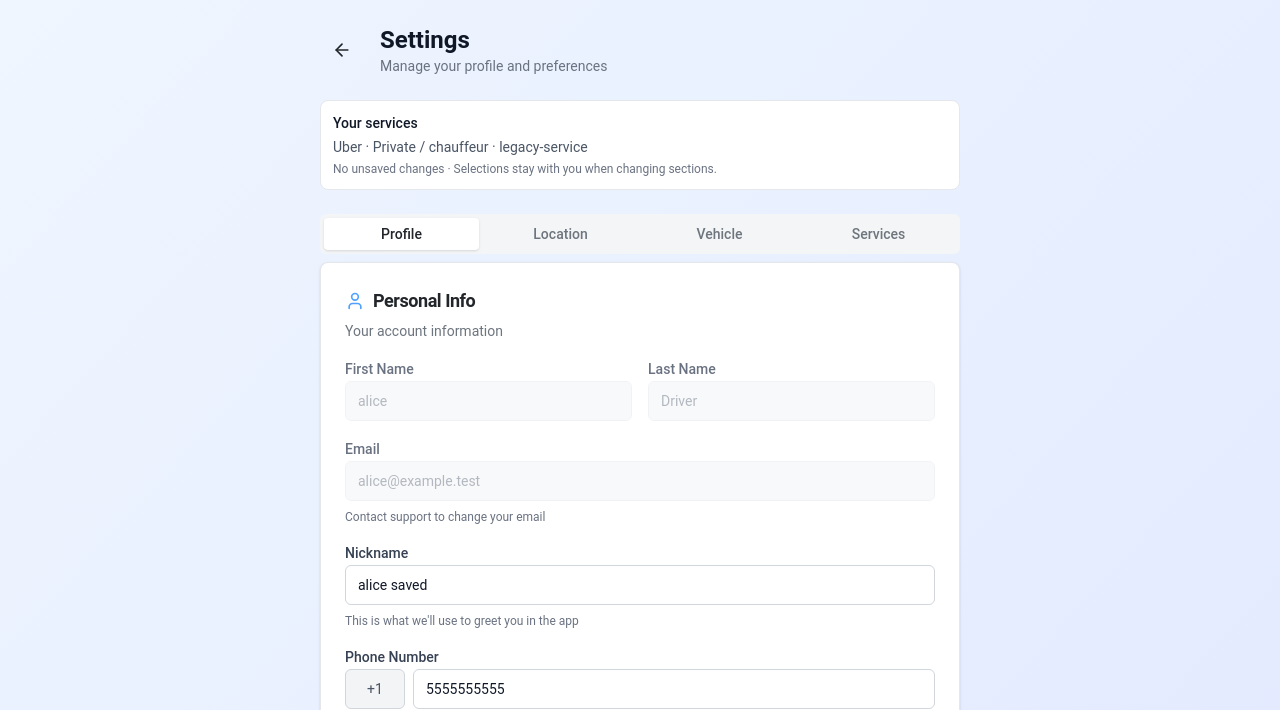
validation reveals and focuses an invalid field in a hidden section
Press the mouse on the tab "Location": (560, 234) [483, 218, 638, 250]
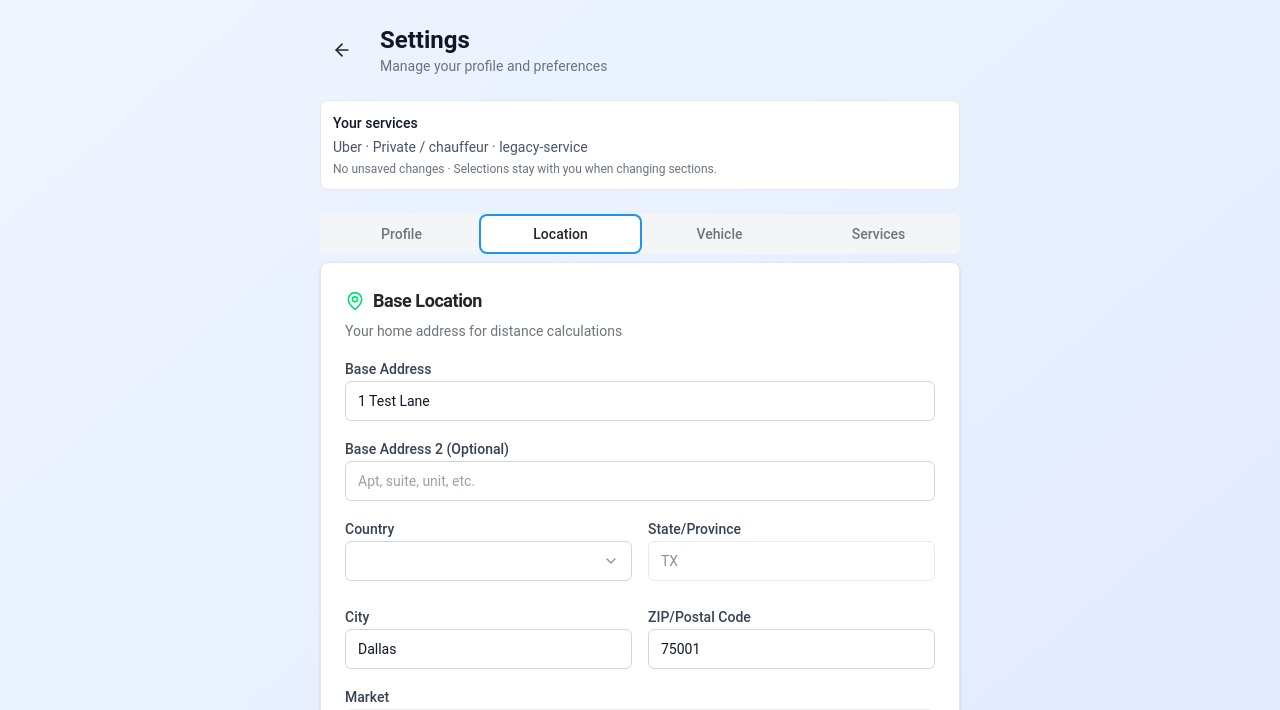
Clear the field labelled "Base Address": (640, 401) [345, 381, 935, 421]
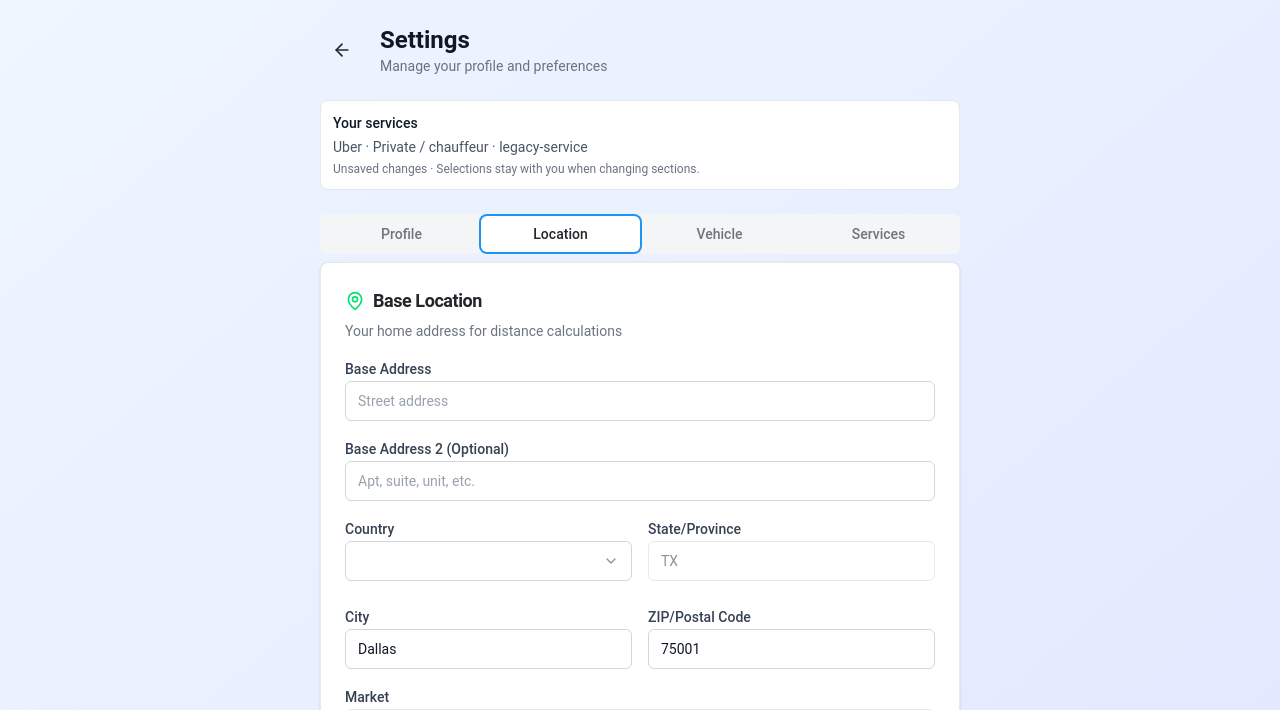
Press the mouse on the tab "Services": (878, 234) [801, 218, 956, 250]
(page scrolled)
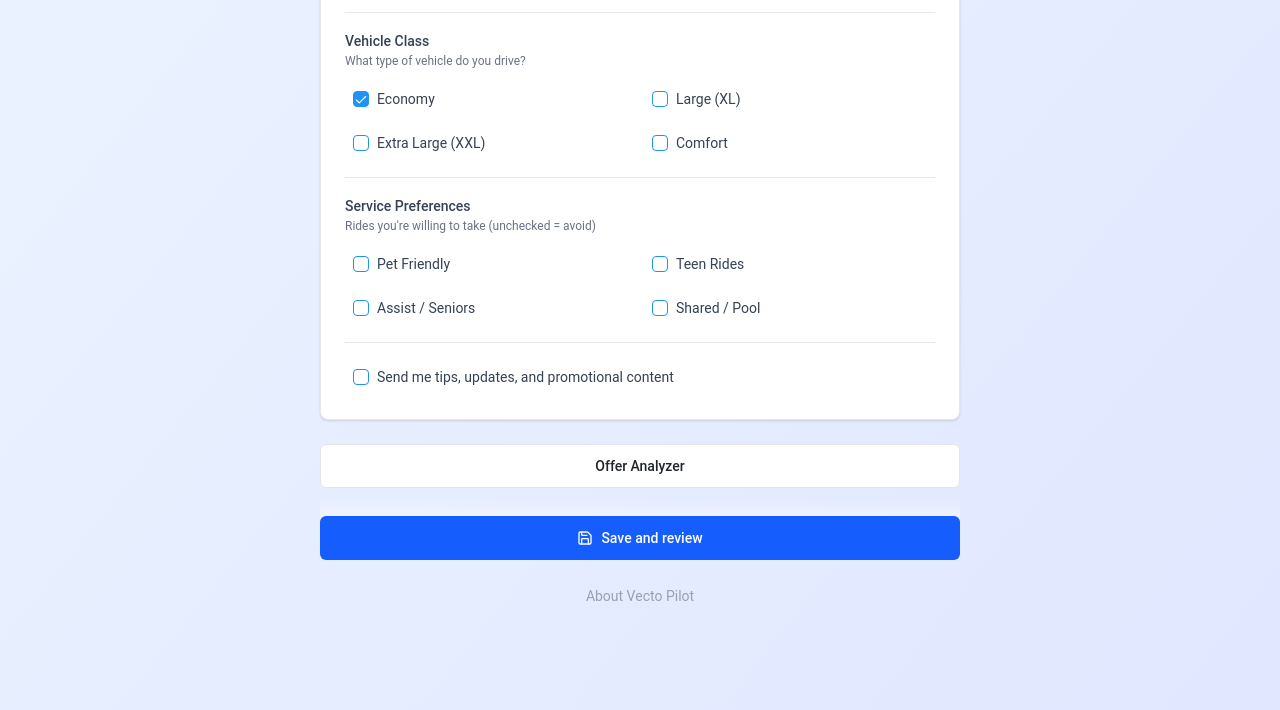
Click the button "Save and review": (640, 538) [320, 516, 960, 560]
(page scrolled)
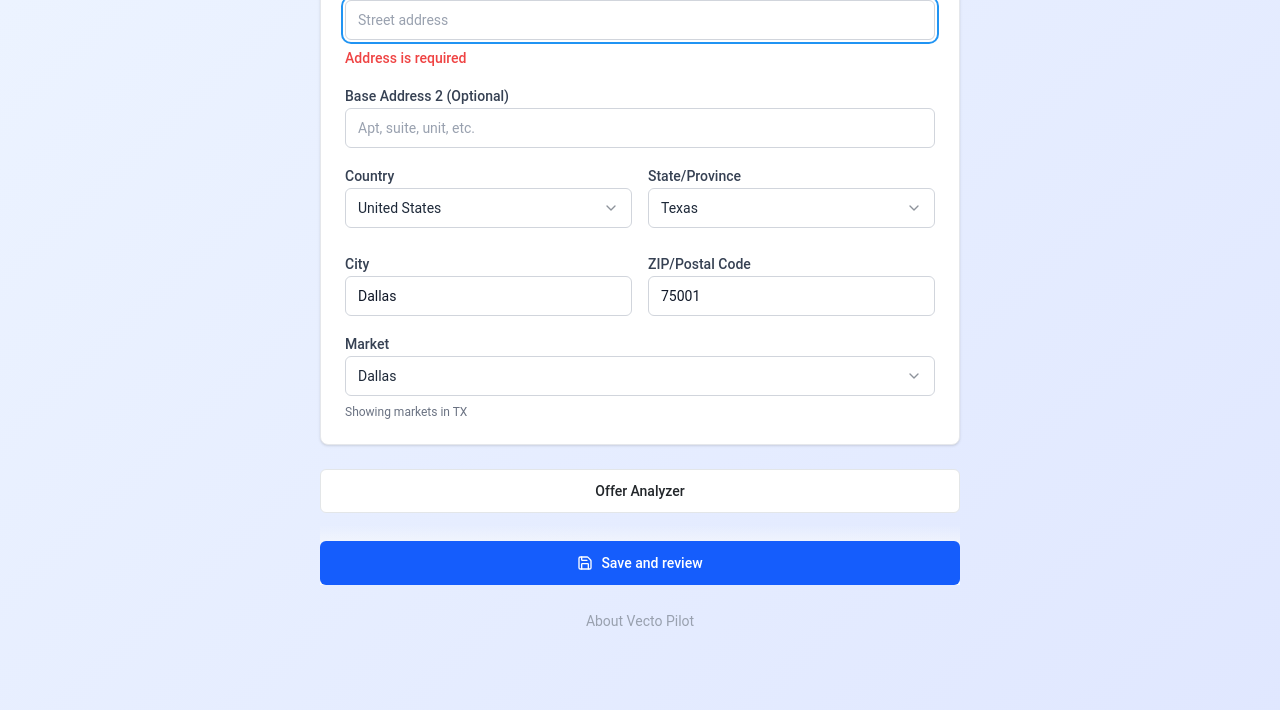
Expected: the text "Address is required" is shown, [345, 50, 466, 66]
